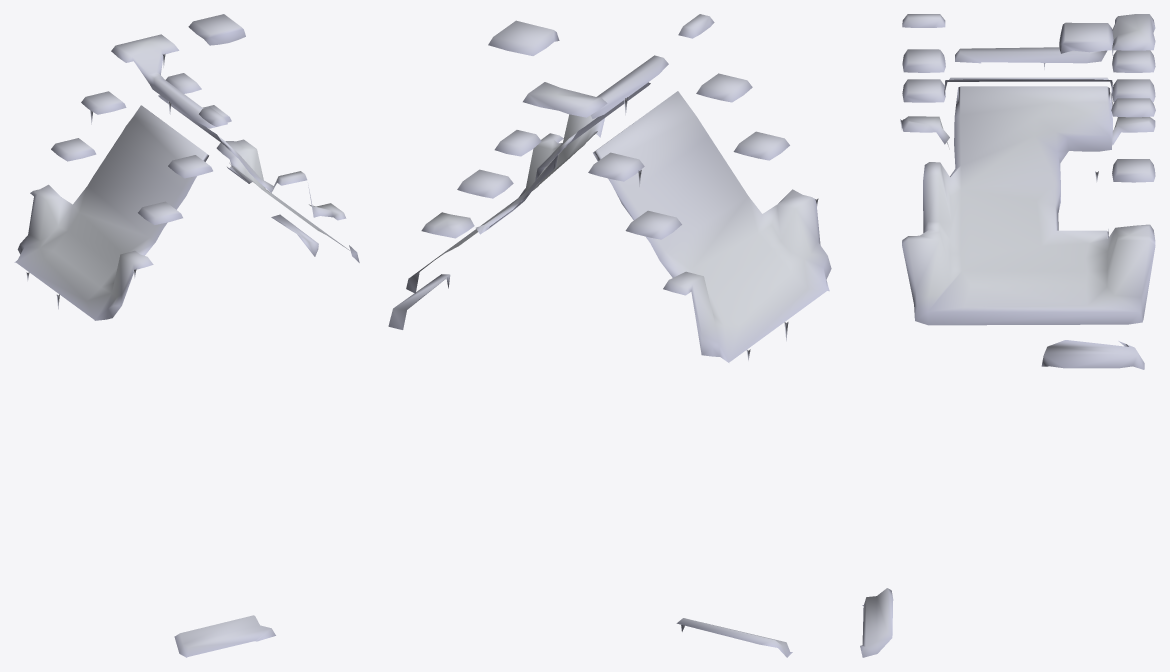
Rendered from category.lending.s.snow.glb.
The picture shows the model from 3 angles, left to right: view 1: azimuth 30°, elevation 25°; view 2: azimuth 150°, elevation 25°; view 3: azimuth 270°, elevation 25°; orthographic projection. The views are drawn at different scales.
Visible parts, largest first — view 1: snow; view 2: snow, tier.2; view 3: snow, tier.2.
Boxes of the visible parts, x1,y1,x2,y2 form: snow: (14,14,359,657); snow: (406,14,831,657); tier.2: (388,274,450,329); snow: (860,14,1155,657); tier.2: (1041,340,1144,369).
Size of the model in its own units: 3.63 by 6.8 by 2.82.
